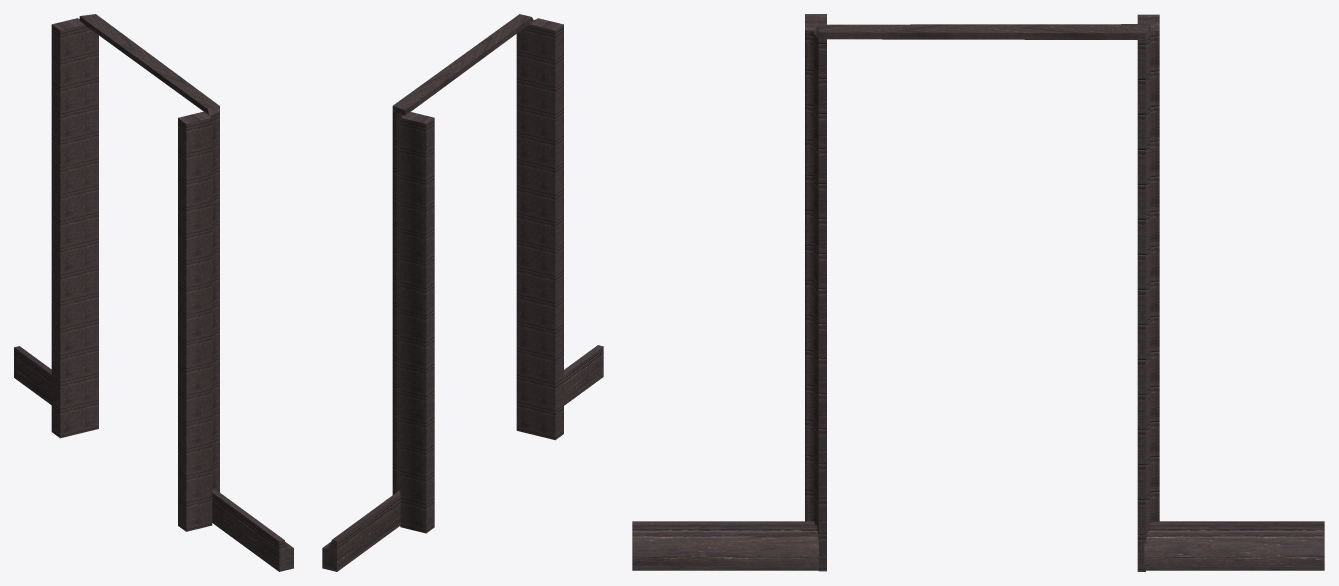
The model's file is soupdoortrim002.obj.
3 views of the same model, side by side, from view 1: azimuth 30°, elevation 25°; view 2: azimuth 150°, elevation 25°; view 3: azimuth 270°, elevation 25° (orthographic). The views are drawn at different scales.
Parts seen in each view (by area): view 1: soupdoortrim002_high_1; view 2: soupdoortrim002_high_1; view 3: soupdoortrim002_high_1.
Boxes of the visible parts, x1,y1,x2,y2 form: soupdoortrim002_high_1: [14, 14, 293, 571]; soupdoortrim002_high_1: [322, 14, 603, 571]; soupdoortrim002_high_1: [632, 14, 1324, 571].
Size of the model in its own units: 0.2435 by 2.32 by 2.7.
